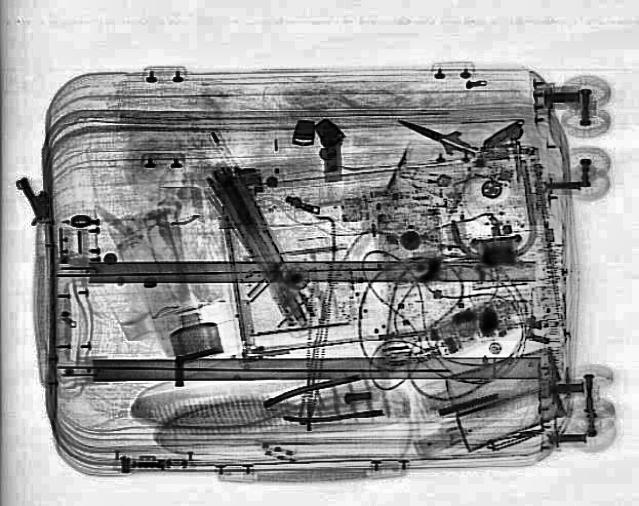Knife: (388, 108, 484, 163)
